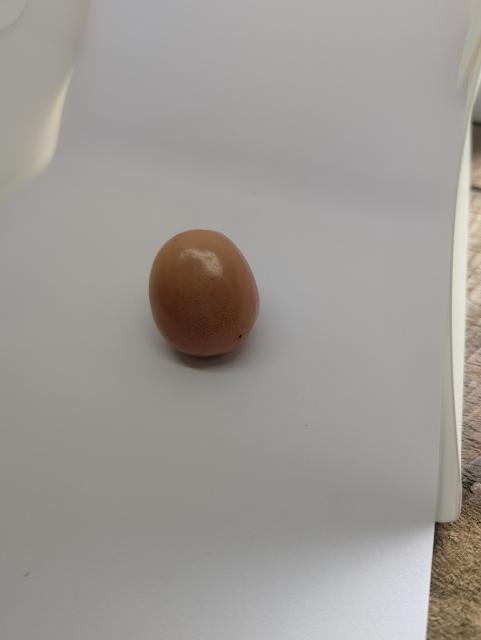turning: (141, 223, 267, 361)
